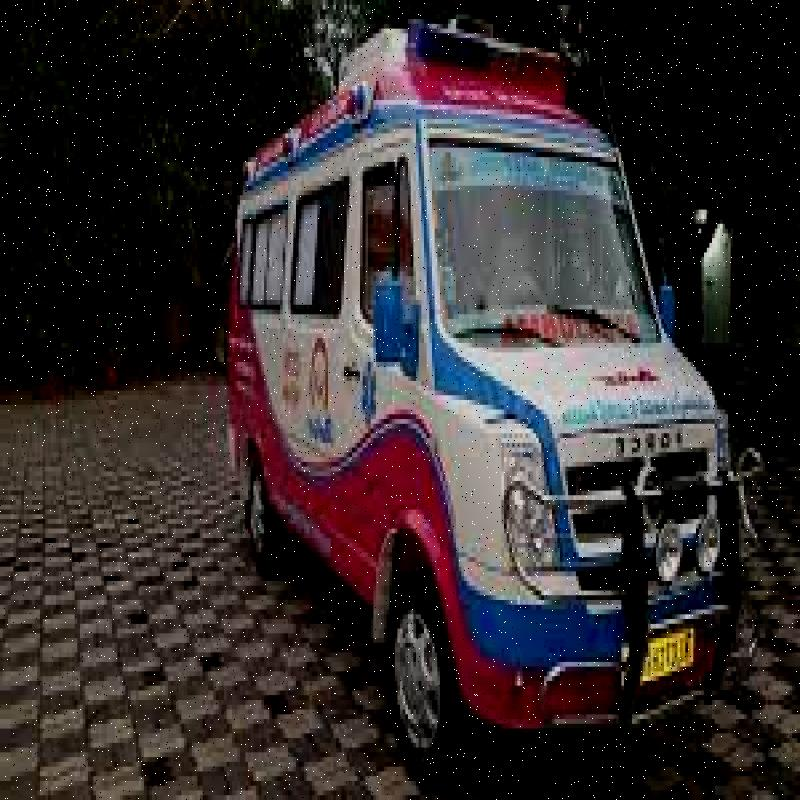ambulance: (236, 89, 730, 701)
